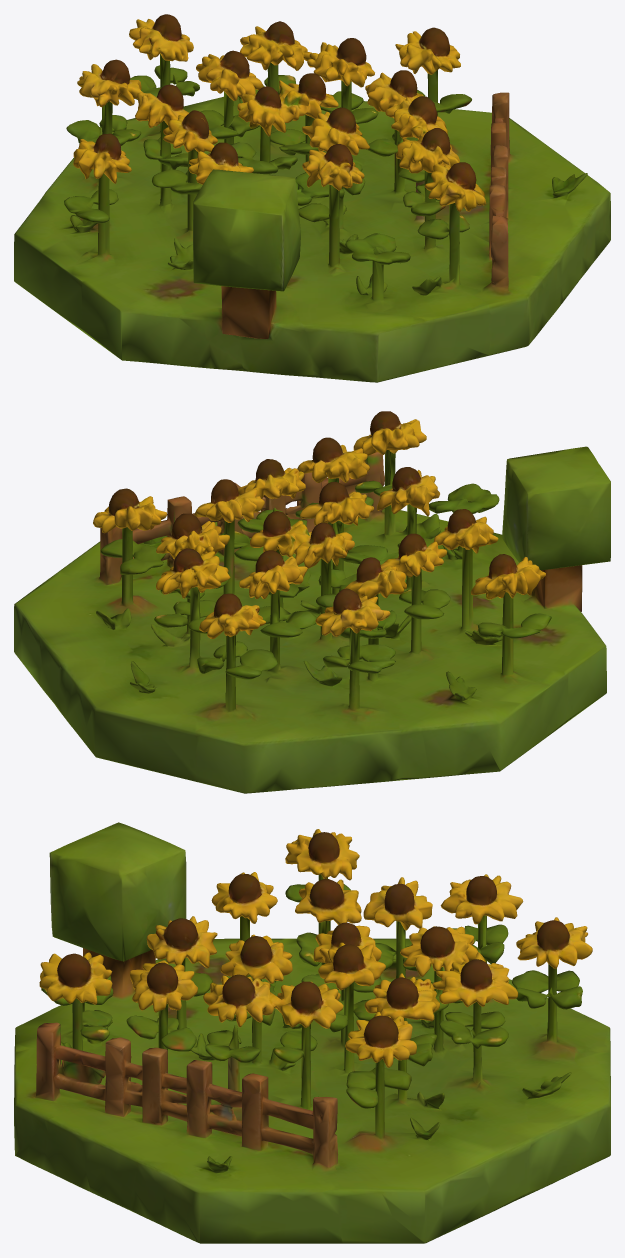
The model's file is sunflower.glb.
3 views of the same model, one above another, from view 1: azimuth 30°, elevation 25°; view 2: azimuth 150°, elevation 25°; view 3: azimuth 270°, elevation 25° (orthographic). The views are drawn at different scales.
Parts seen in each view (by area): view 1: tripo_node_b8f64c90-eadc-4e0b-b125-b3af541bec91; view 2: tripo_node_b8f64c90-eadc-4e0b-b125-b3af541bec91; view 3: tripo_node_b8f64c90-eadc-4e0b-b125-b3af541bec91.
Boxes of the visible parts, x1,y1,x2,y2 form: tripo_node_b8f64c90-eadc-4e0b-b125-b3af541bec91: (14,14,610,382); tripo_node_b8f64c90-eadc-4e0b-b125-b3af541bec91: (14,411,610,793); tripo_node_b8f64c90-eadc-4e0b-b125-b3af541bec91: (14,822,610,1243).
Bounding box in the file's own units: 0.9999 × 0.3568 × 0.9972.
1 material, 1 textured.
